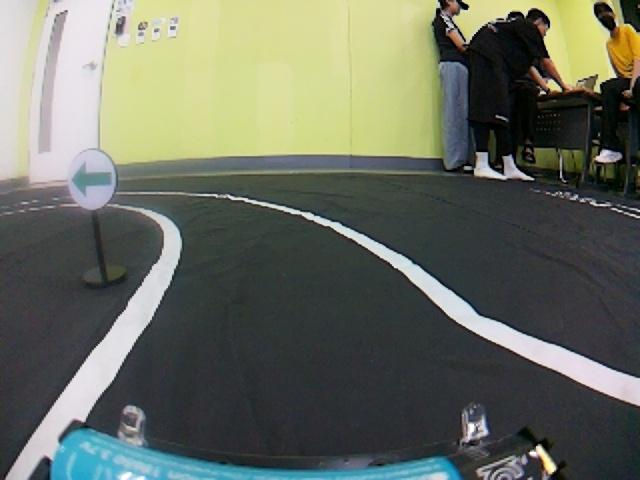sign_left: (61, 143, 124, 214)
straight: (14, 269, 640, 469)
